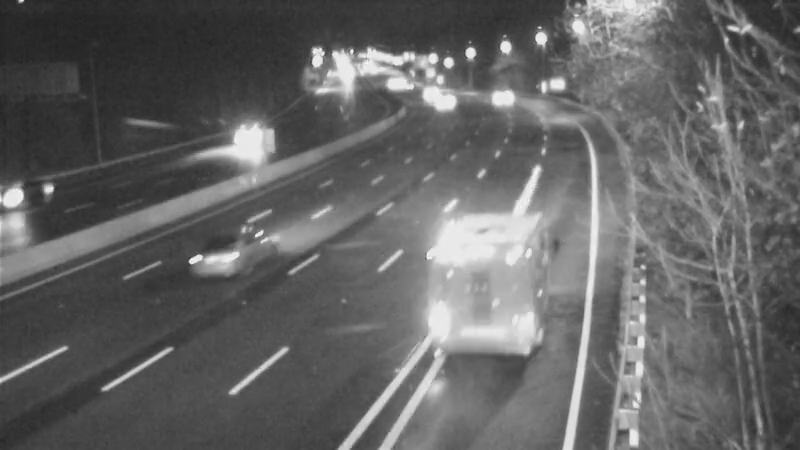vehicle: (418, 275, 528, 385), (188, 216, 268, 296), (1, 153, 70, 233), (401, 65, 451, 115), (472, 74, 522, 124), (423, 78, 473, 128), (220, 118, 270, 168)
